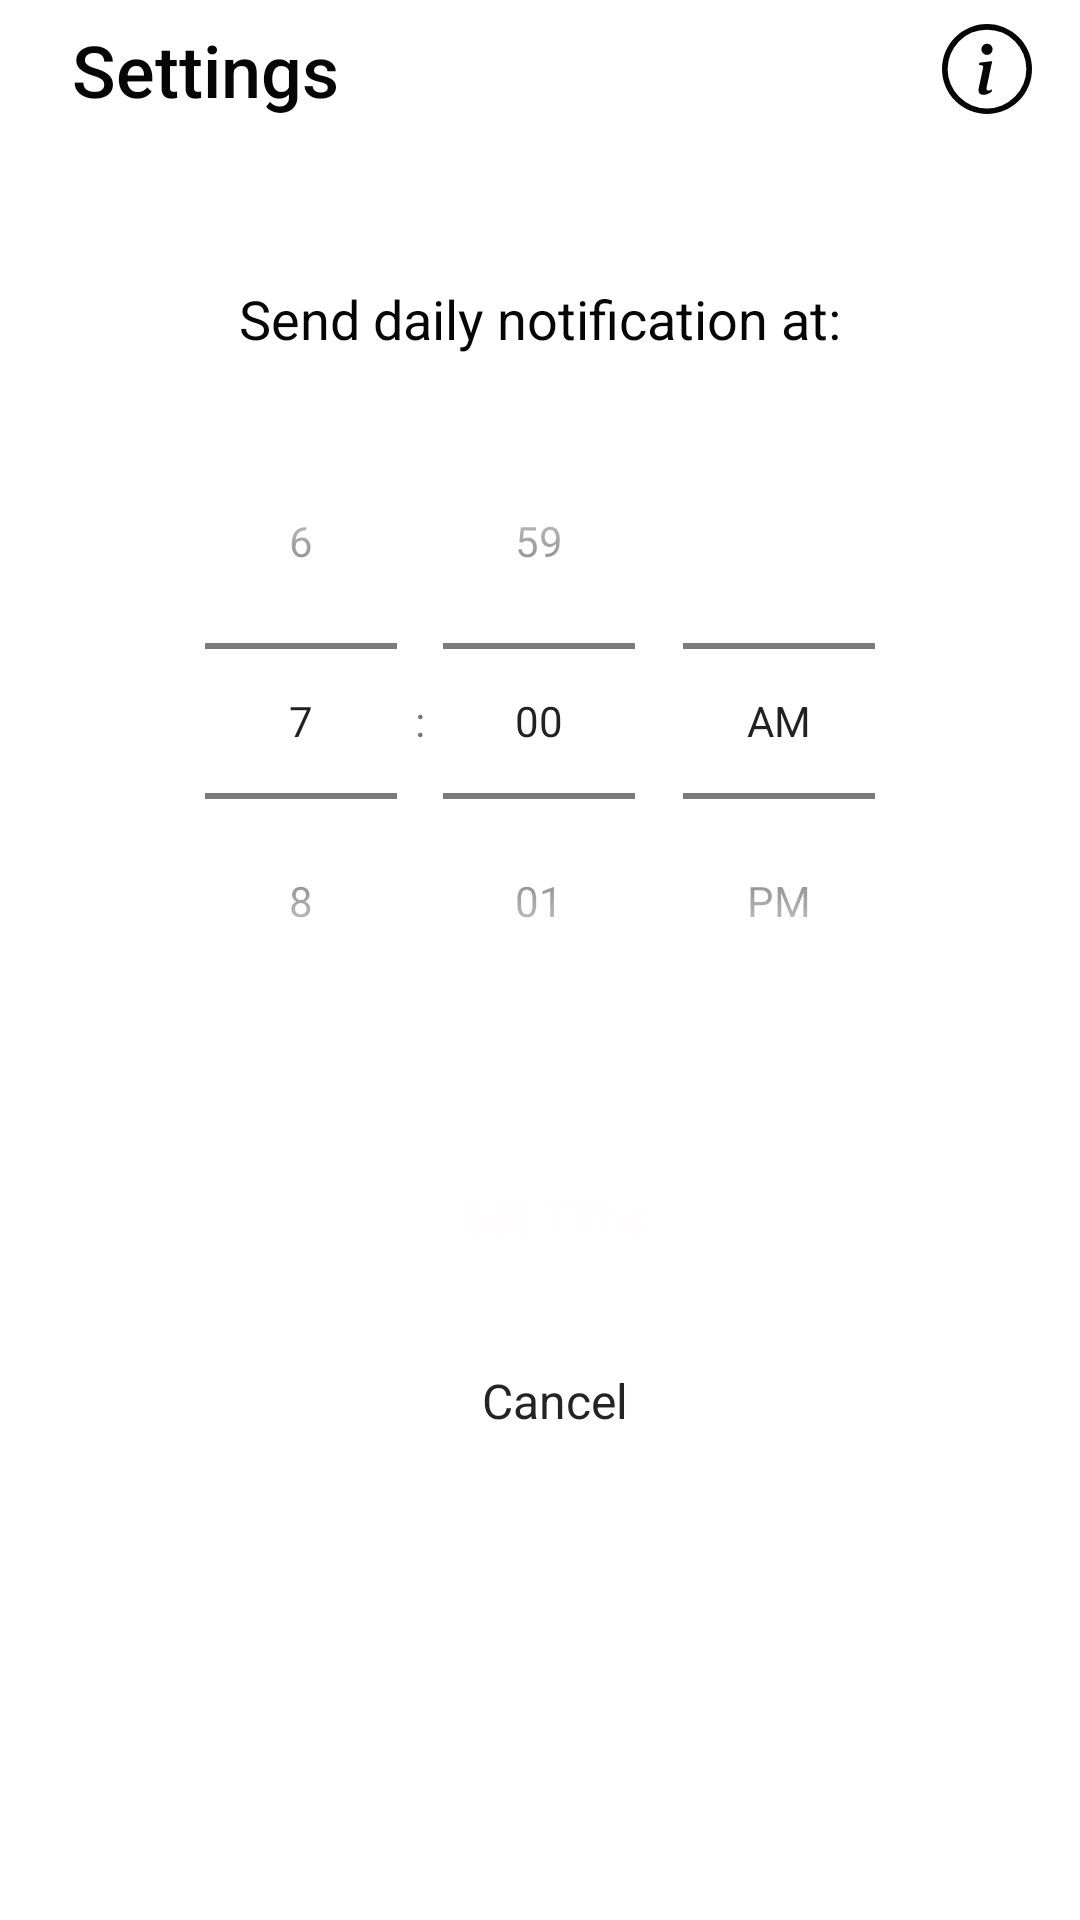

Named icons in this screenshot (1080px×1920px) and their bounding boxes, rect(x1, y1, x2, y2):
Info: rect(942, 24, 1032, 114)
